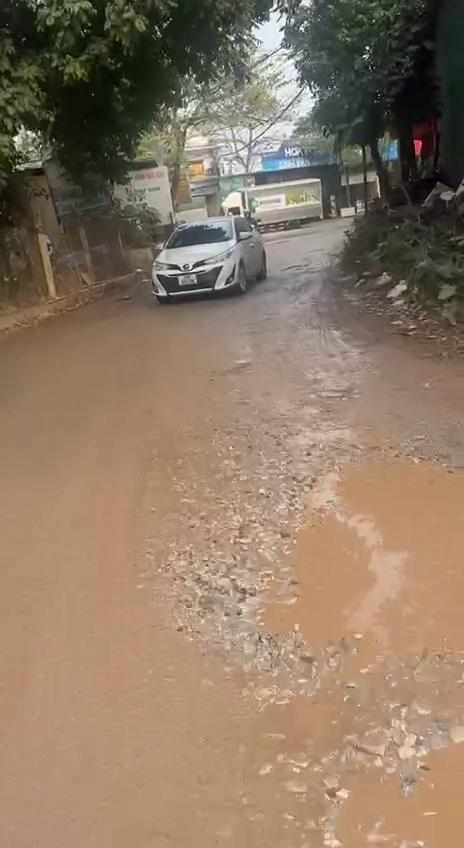pothole: (185, 434, 464, 846)
